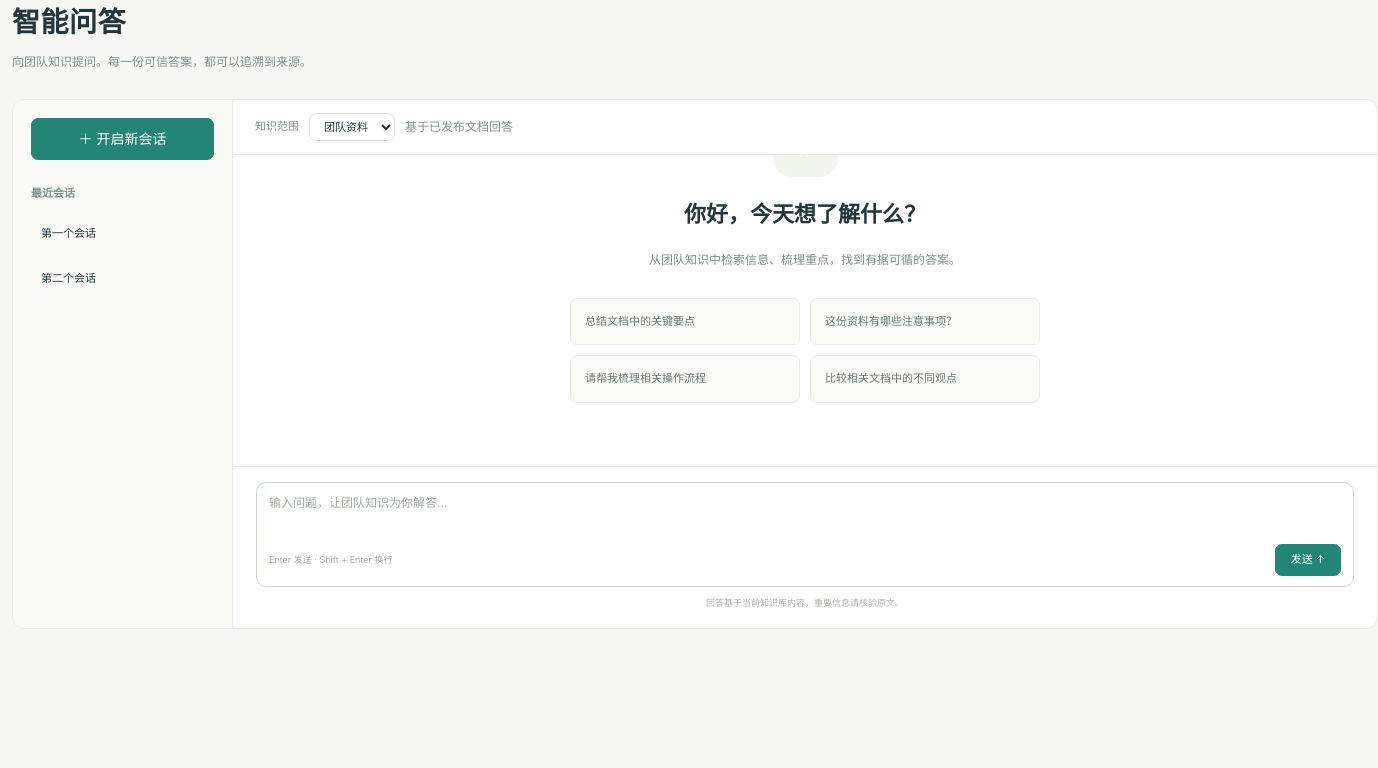
Chat › releases the active stream when opening a new session
(page scrolled)
In the text box labelled "输入问题": (805, 515) [269,493,1341,538], type "如何操作？"
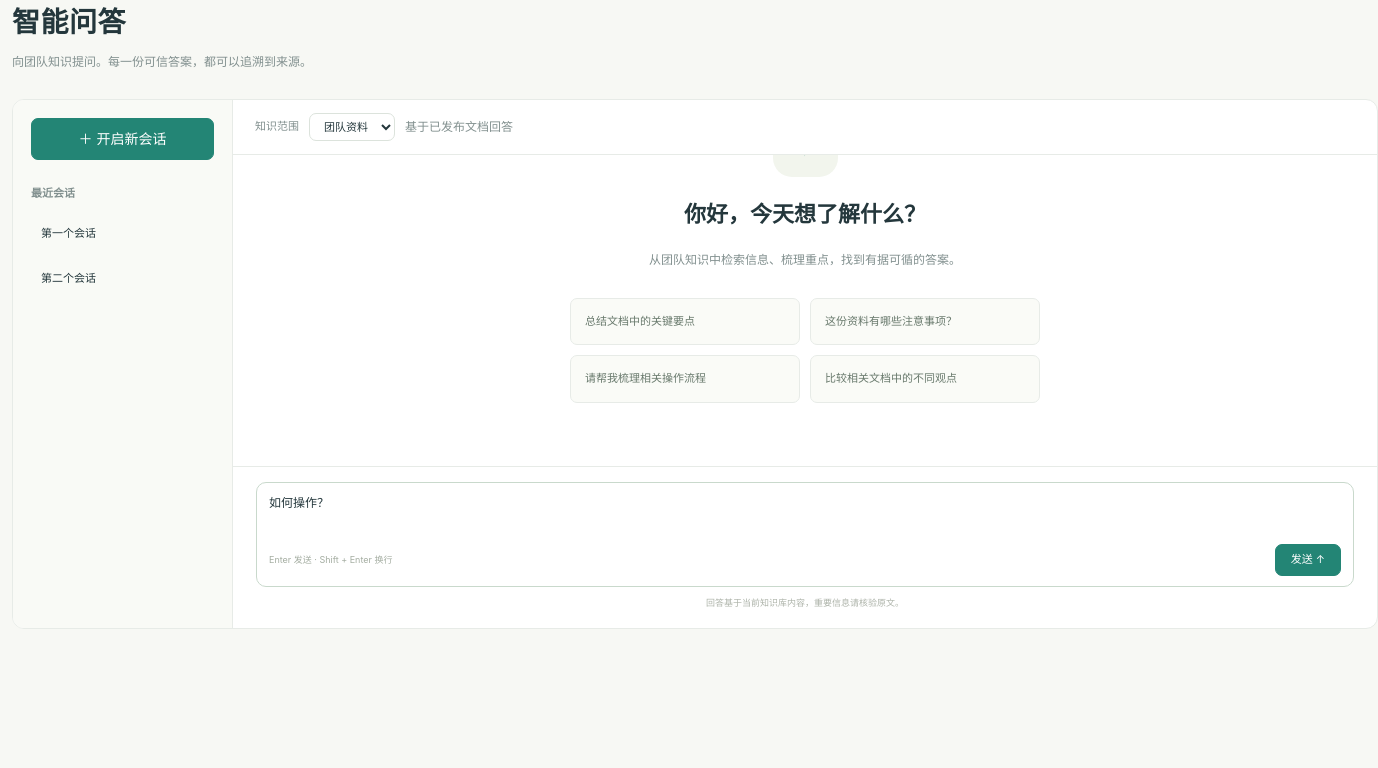
Click the button "发送 ↑": (1308, 560) [1275,544,1341,576]
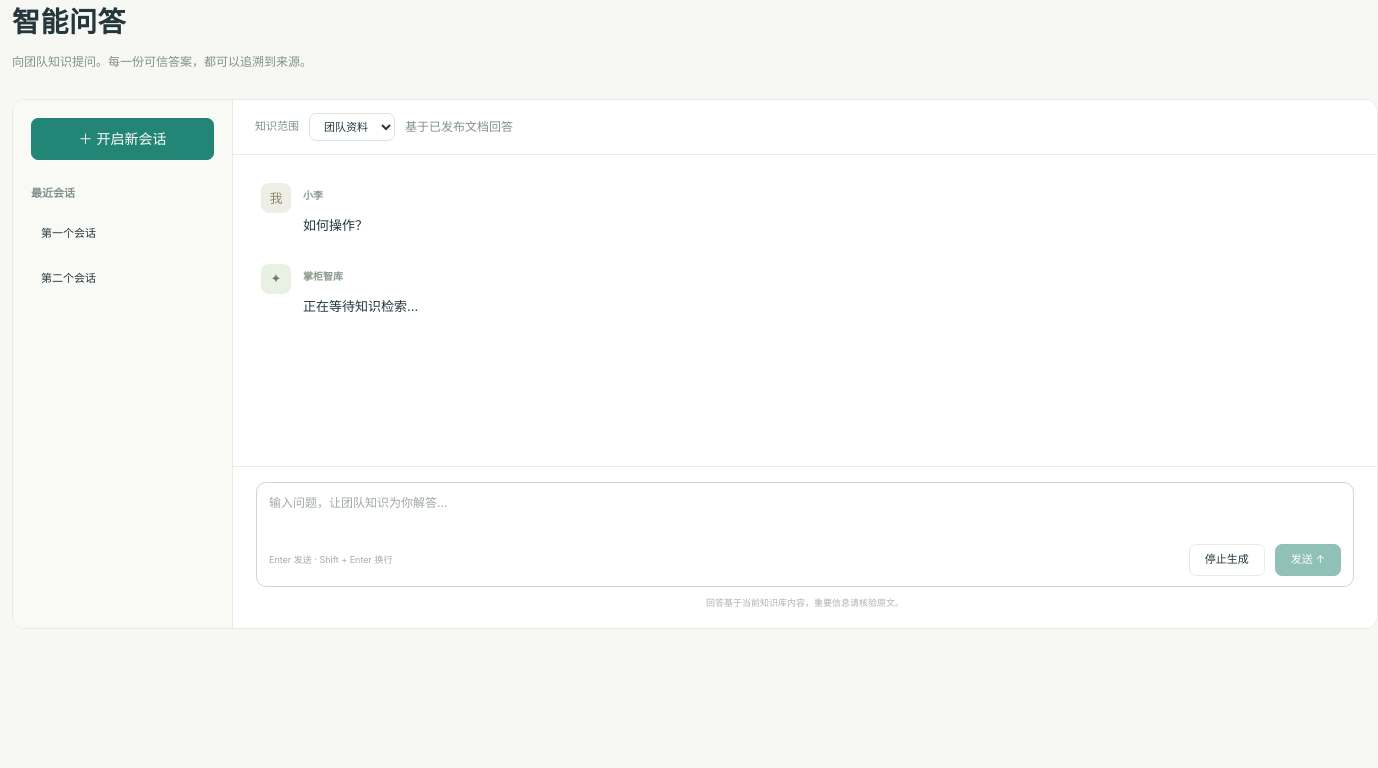
Check: the button "停止生成" is shown, box [1189,544,1265,576]
Click the button "＋ 开启新会话": (122, 139) [31,118,214,160]
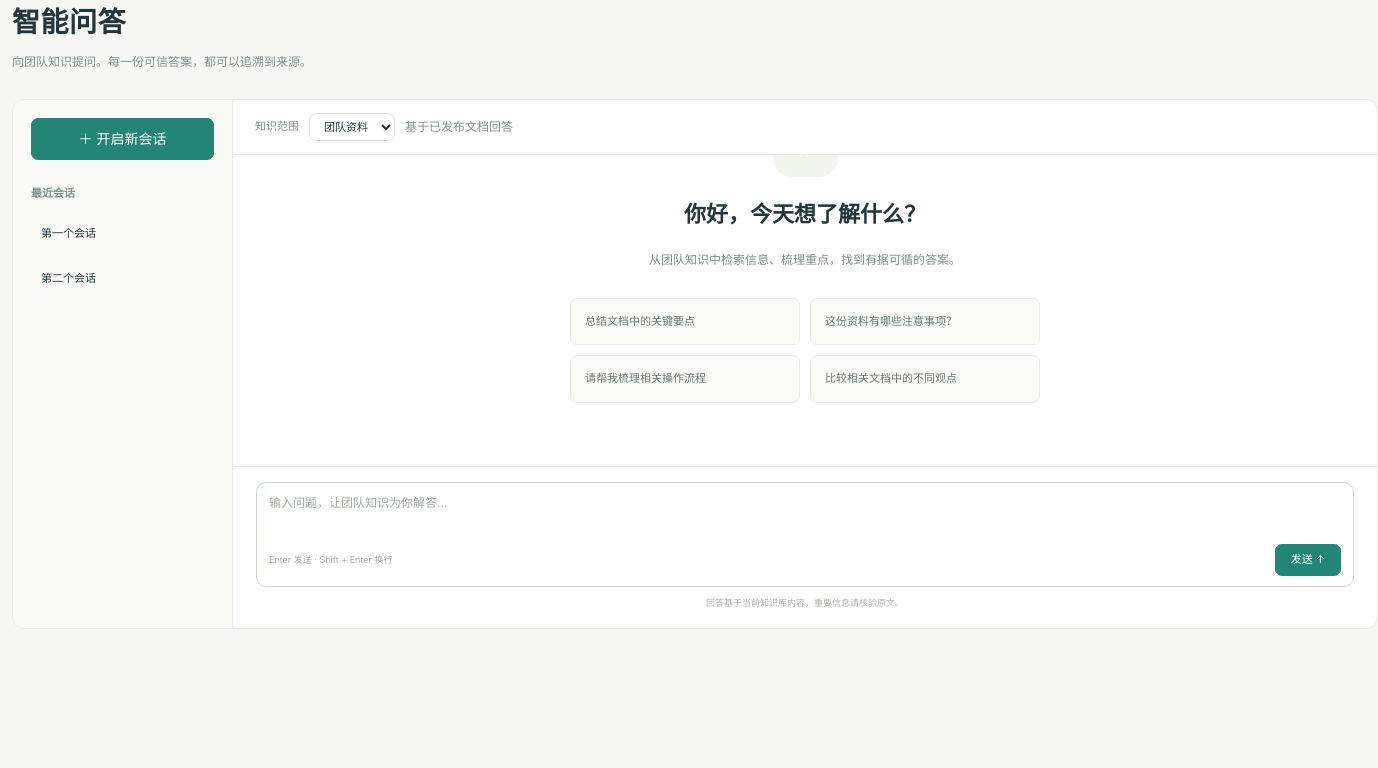
Check: the button "停止生成" is gone
Check: the button "发送 ↑" is enabled, box [1275,544,1341,576]
